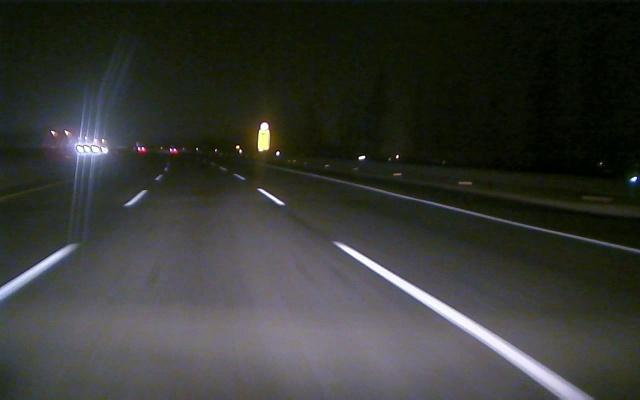lane: (256, 189, 595, 398), (355, 182, 640, 256), (3, 191, 146, 299)
